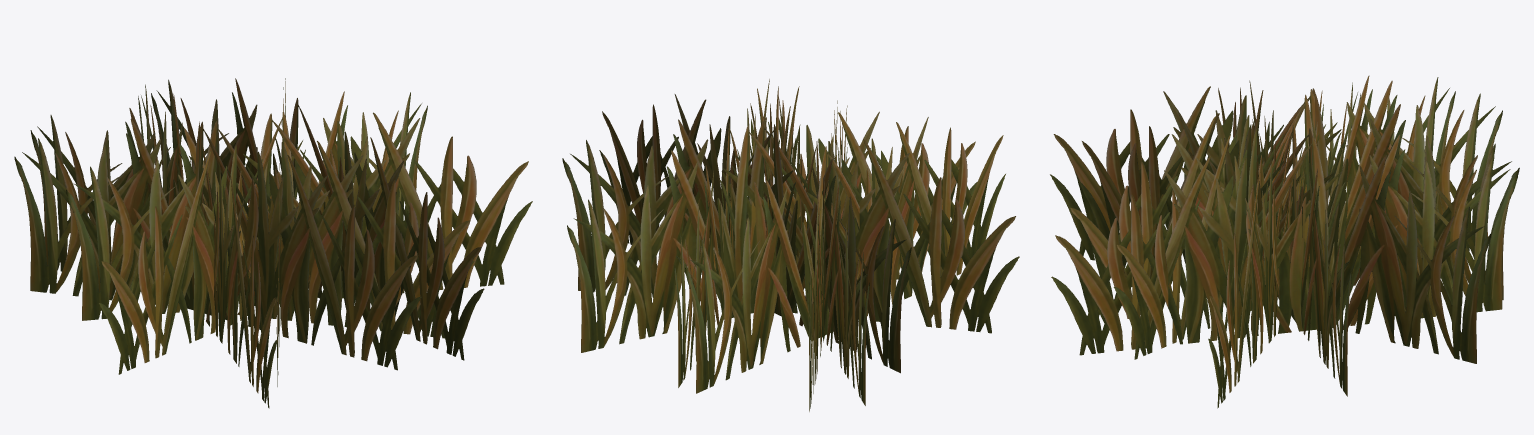
The model's file is Grass_Mud_Bush.fbx.
The picture shows the model from 3 angles, left to right: view 1: azimuth 30°, elevation 25°; view 2: azimuth 150°, elevation 25°; view 3: azimuth 270°, elevation 25°; orthographic projection. The views are drawn at different scales.
Visible parts, largest first — view 1: Grass_Mud_Bush; view 2: Grass_Mud_Bush; view 3: Grass_Mud_Bush.
Boxes of the visible parts, x1,y1,x2,y2 form: Grass_Mud_Bush: (14, 78, 532, 408); Grass_Mud_Bush: (562, 79, 1019, 411); Grass_Mud_Bush: (1050, 75, 1519, 408).
Size of the model in its own units: 165 by 70 by 154.
Materials: 1 (1 with a texture image).
